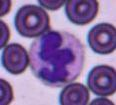N: (28, 29, 84, 85)
